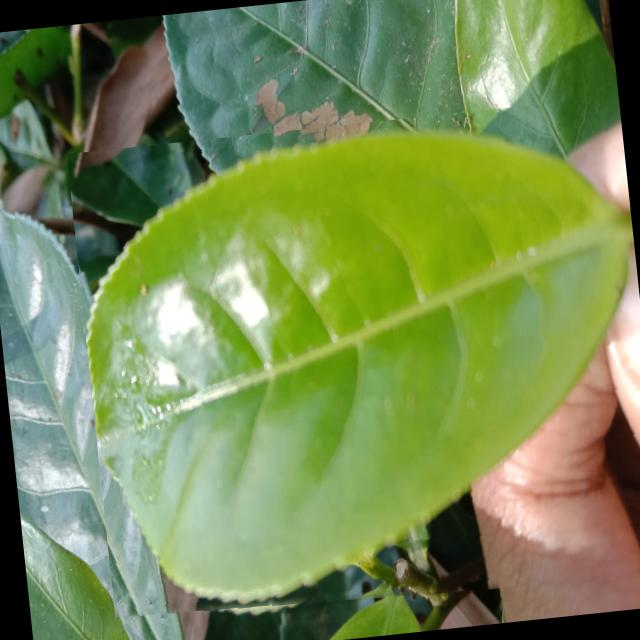Category B(2-4 days): (65, 96, 640, 633)
